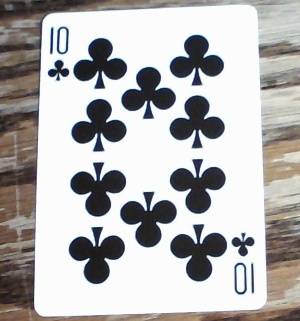card: (33, 5, 267, 316)
